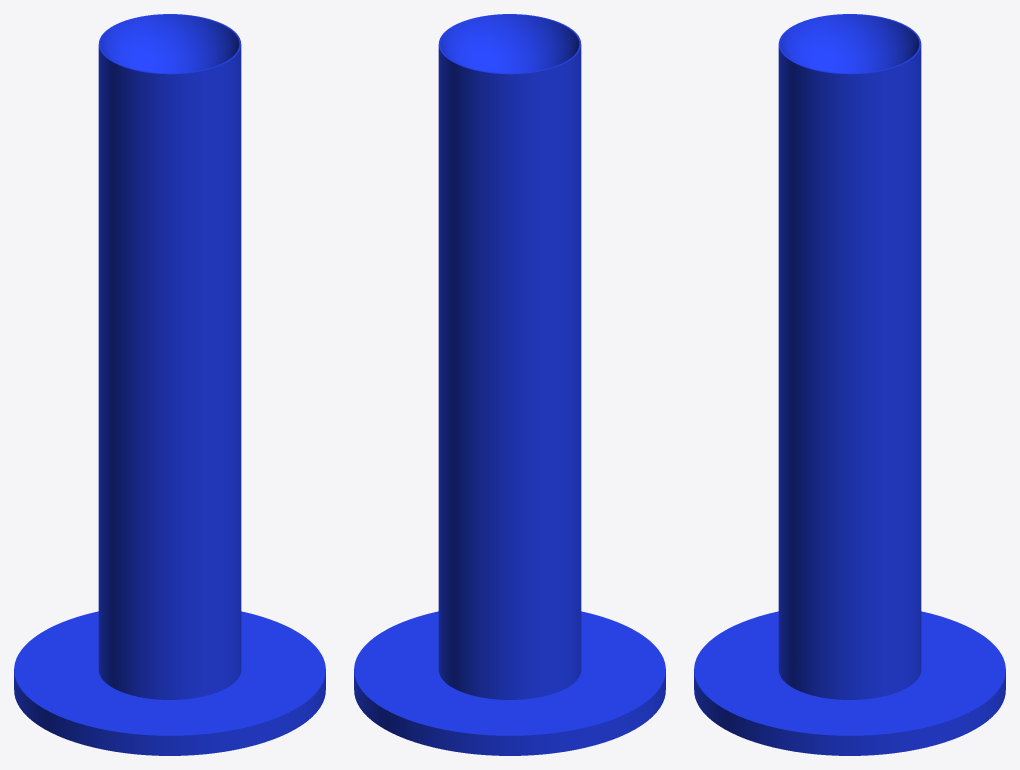
The model's file is bump-flare-blue.obj.
3 views of the same model, side by side, from view 1: azimuth 30°, elevation 25°; view 2: azimuth 150°, elevation 25°; view 3: azimuth 270°, elevation 25° (orthographic).
Parts seen in each view (by area): view 1: Entity2geometry; view 2: Entity2geometry; view 3: Entity2geometry.
Part boxes in pixels (left/top/right/bottom): Entity2geometry: left=14, top=14, right=325, bottom=755; Entity2geometry: left=354, top=14, right=665, bottom=755; Entity2geometry: left=694, top=14, right=1005, bottom=755.
Bounding box in the file's own units: 34.99 × 80 × 34.99.
